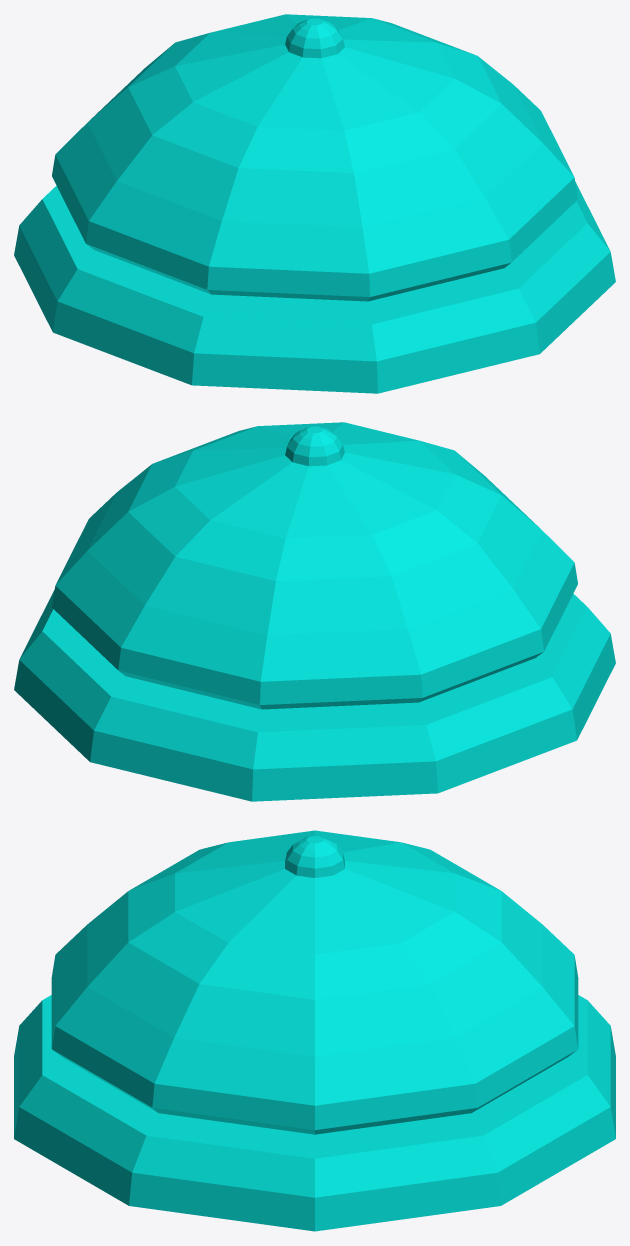
Rendered from Campanita.fbx.
The picture shows the model from 3 angles, top to bottom: view 1: azimuth 30°, elevation 25°; view 2: azimuth 150°, elevation 25°; view 3: azimuth 270°, elevation 25°; orthographic projection. The views are drawn at different scales.
Visible parts, largest first — view 1: pCylinder3; view 2: pCylinder3; view 3: pCylinder3.
Boxes of the visible parts, <box> form: pCylinder3: <box>14,14,615,393</box>; pCylinder3: <box>14,422,615,801</box>; pCylinder3: <box>14,830,615,1231</box>.
Size of the model in its own units: 14.2 by 6.39 by 13.51.
